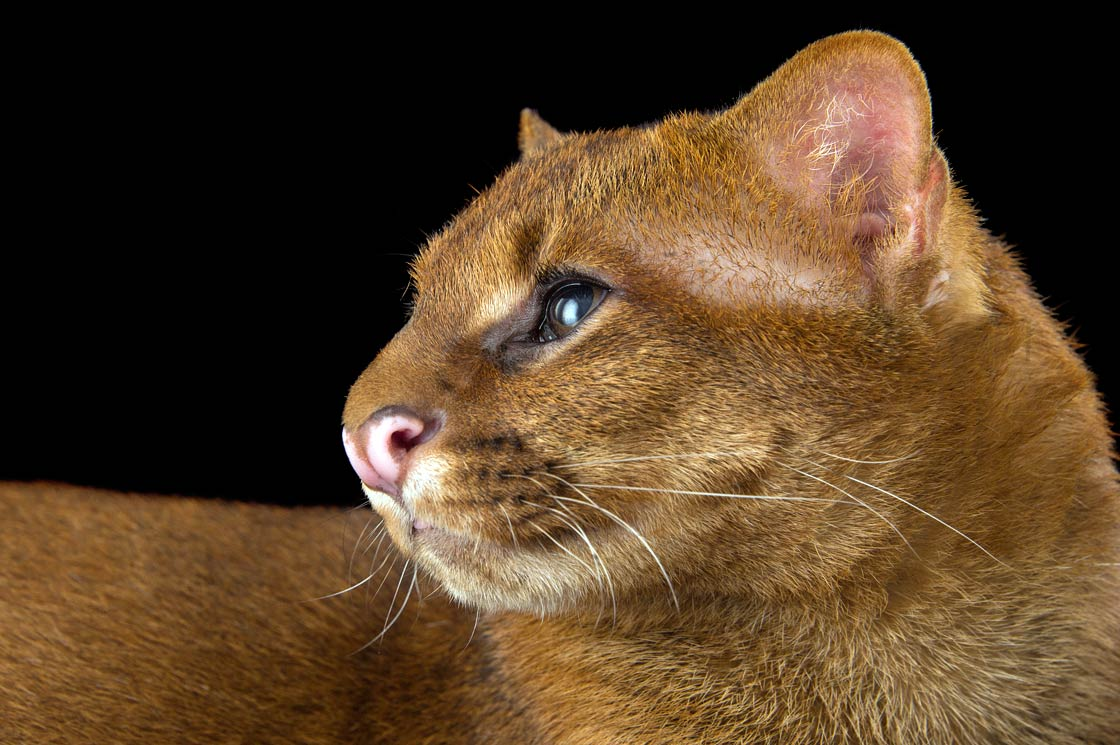Jaguarundi: (36, 24, 1107, 727)
